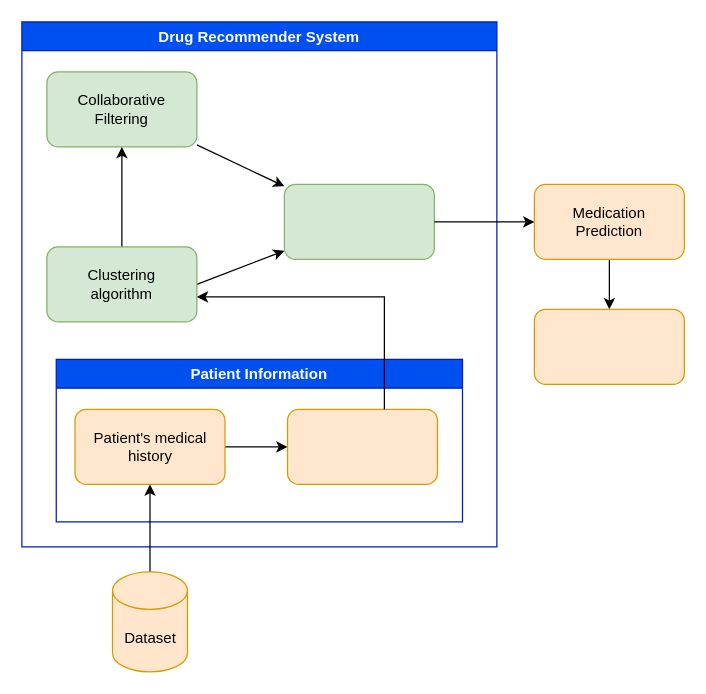
Image size: 706x694. Some labels were removed from this diagram. The centre of each missing label's shape, as x and y in pixels:
"Hybrid Approach" goes at (358,221).
"medication prescribed to patients" goes at (362,446).
"Medication recommendation" goes at (608,346).
